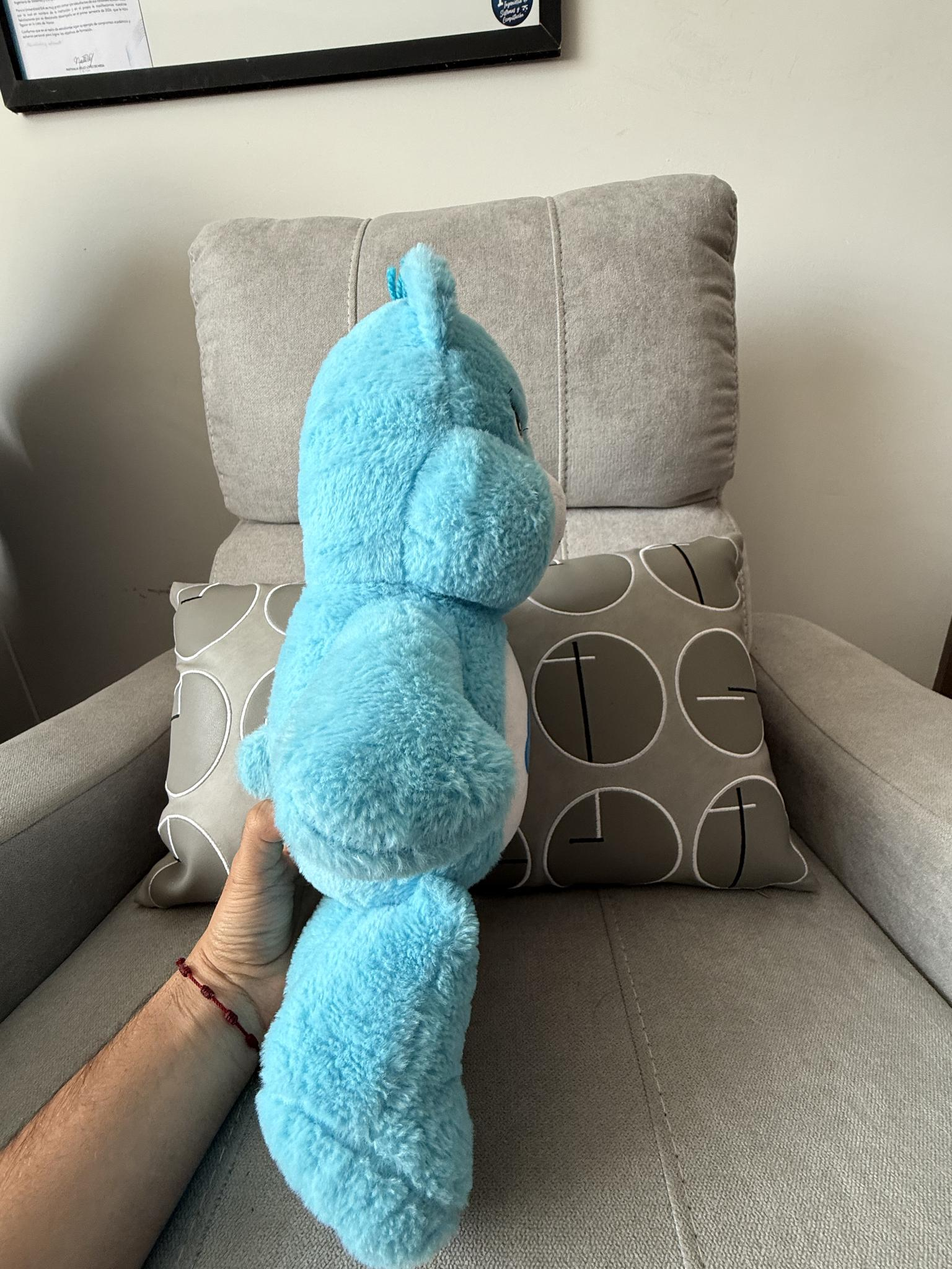peluche_Juan Jose: (253, 249, 573, 1262)
